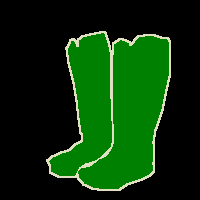shoe: (76, 34, 170, 190), (47, 32, 113, 177)
